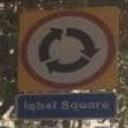Rotatoria: (17, 9, 122, 91)
